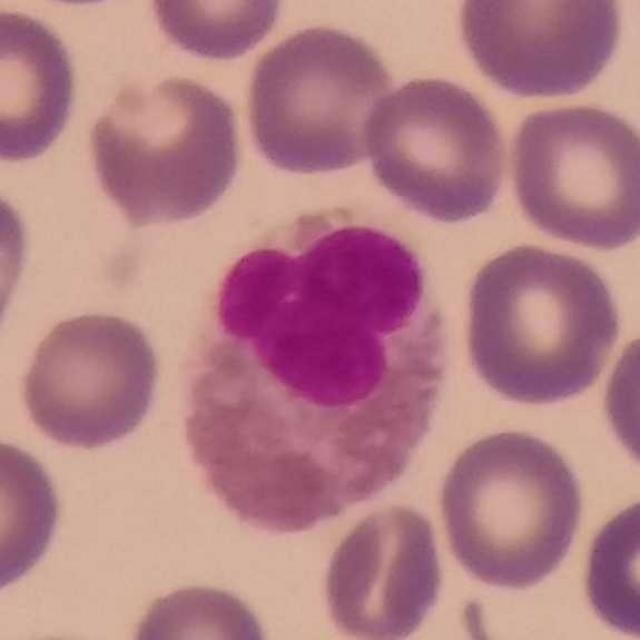Eosinophil: (180, 210, 446, 528)
RBC: (456, 238, 624, 410), (81, 69, 248, 229), (433, 423, 589, 593), (240, 19, 401, 180), (357, 71, 511, 227), (13, 304, 167, 454), (502, 97, 640, 254), (315, 497, 449, 640), (452, 0, 628, 104), (0, 3, 83, 167), (0, 430, 69, 604), (121, 576, 277, 640), (575, 487, 639, 640), (142, 0, 290, 65), (596, 320, 640, 484), (0, 176, 37, 363), (0, 625, 147, 640)
